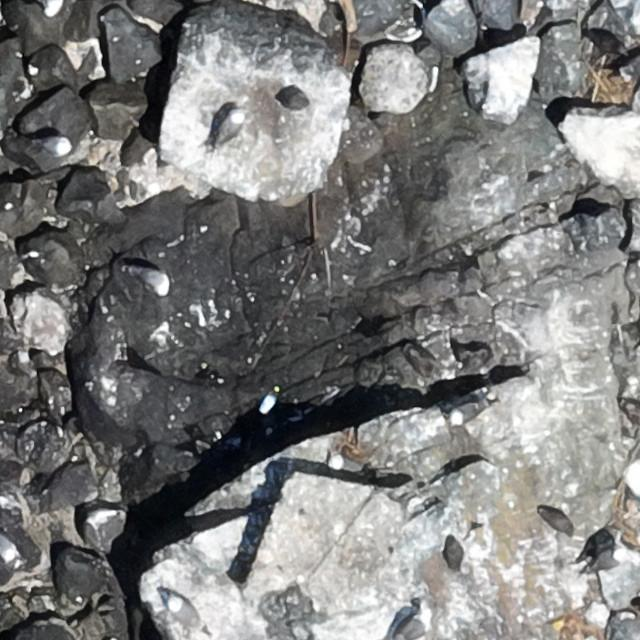umineko: (168, 594, 209, 639), (213, 108, 245, 149), (587, 548, 627, 576), (395, 608, 430, 639), (328, 452, 371, 475), (138, 267, 169, 293), (452, 402, 483, 423), (42, 135, 71, 154), (0, 536, 17, 564), (259, 394, 274, 414), (43, 0, 62, 15)
